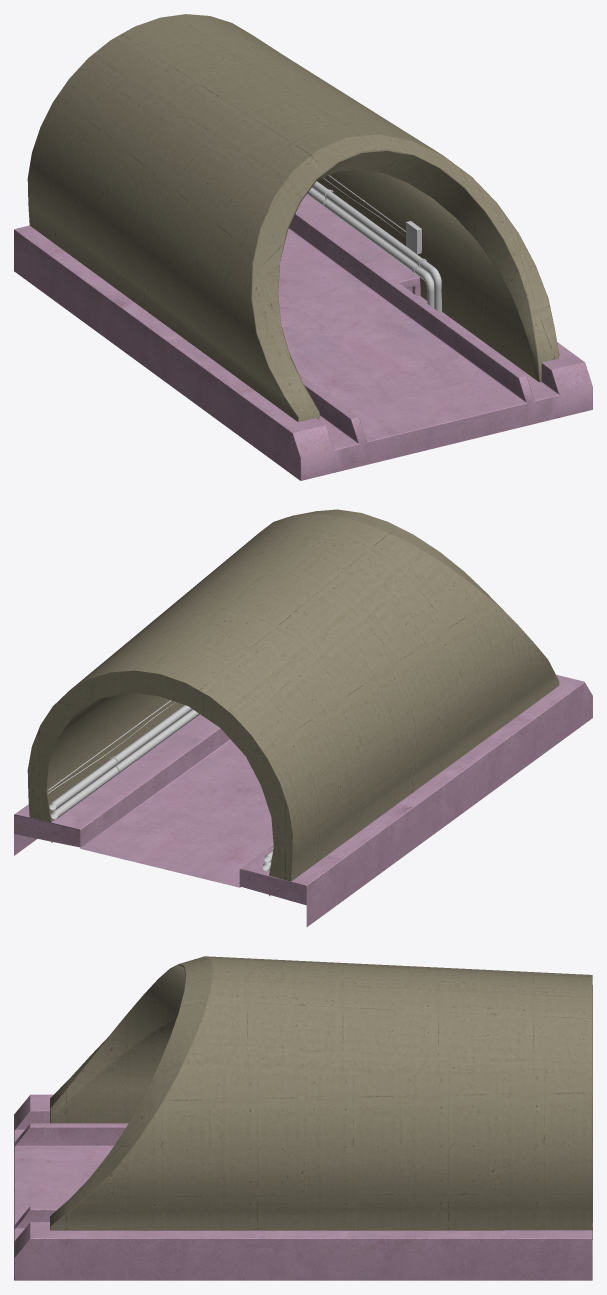
File: 山岭隧道1.fbx
The picture shows the model from 3 angles, top to bottom: view 1: azimuth 30°, elevation 25°; view 2: azimuth 150°, elevation 25°; view 3: azimuth 270°, elevation 25°; orthographic projection.
Parts seen in each view (by area): view 1: 隧道1_隧道外壳, 隧道1_地面, 隧道1; view 2: 隧道1_隧道外壳, 隧道1_地面, 隧道1; view 3: 隧道1_隧道外壳, 隧道1_地面.
Boxes of the visible parts, <box> form: 隧道1_隧道外壳: <box>27,14,559,421</box>; 隧道1_地面: <box>14,194,592,480</box>; 隧道1: <box>307,175,441,312</box>; 隧道1_隧道外壳: <box>27,509,559,896</box>; 隧道1_地面: <box>14,674,592,926</box>; 隧道1: <box>47,700,273,870</box>; 隧道1_隧道外壳: <box>50,956,592,1239</box>; 隧道1_地面: <box>14,1094,592,1280</box>.
Size of the model in its own units: 26.78 by 20.63 by 45.47.
